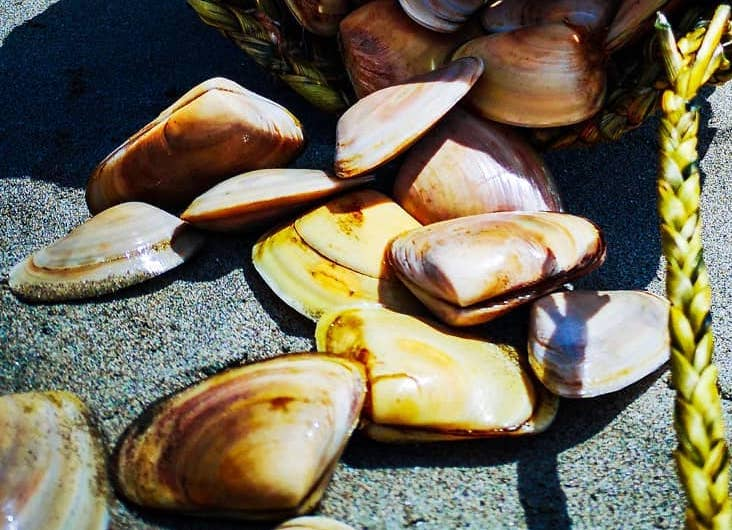tuatua: (106, 351, 371, 518), (312, 293, 559, 443), (82, 68, 309, 203), (381, 210, 611, 324), (241, 189, 405, 320), (6, 196, 203, 302), (332, 58, 485, 188), (453, 18, 612, 131), (523, 281, 675, 395), (398, 115, 566, 210), (181, 163, 357, 231)
